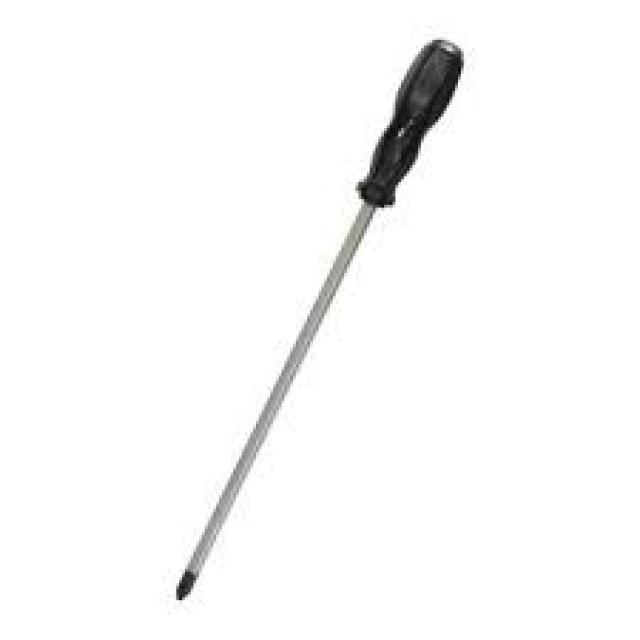screwdriver: (172, 22, 468, 604)
